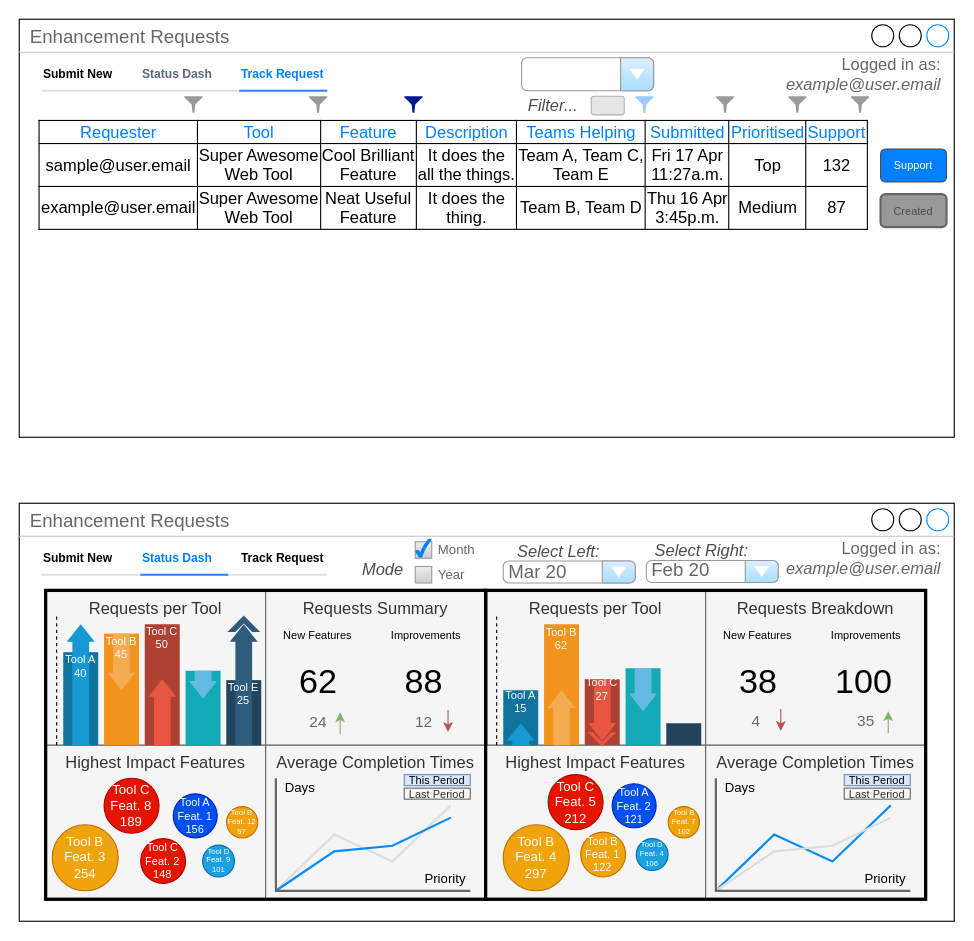
Image size: 974x941. Some labels were removed from this diagram. Here are the shapes that lost their labels. From the top down, the centre of each, then its label:
At pixel 587 74: "My Team".
At pixel 607 105: "Go".
At pixel 202 684: "Tool D 30".
At pixel 642 689: "Tool D 34".
At pixel 683 734: "Tool E 3".
